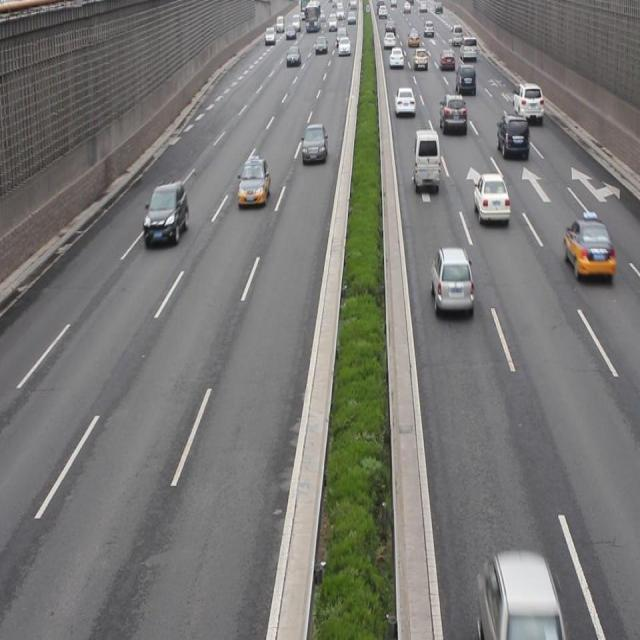car: (477, 550, 564, 633), (562, 215, 613, 280), (429, 248, 473, 319), (143, 184, 187, 244), (472, 173, 508, 226), (238, 158, 269, 208), (497, 112, 527, 162), (440, 94, 466, 135), (302, 124, 326, 163)
truck: (412, 129, 440, 193)
